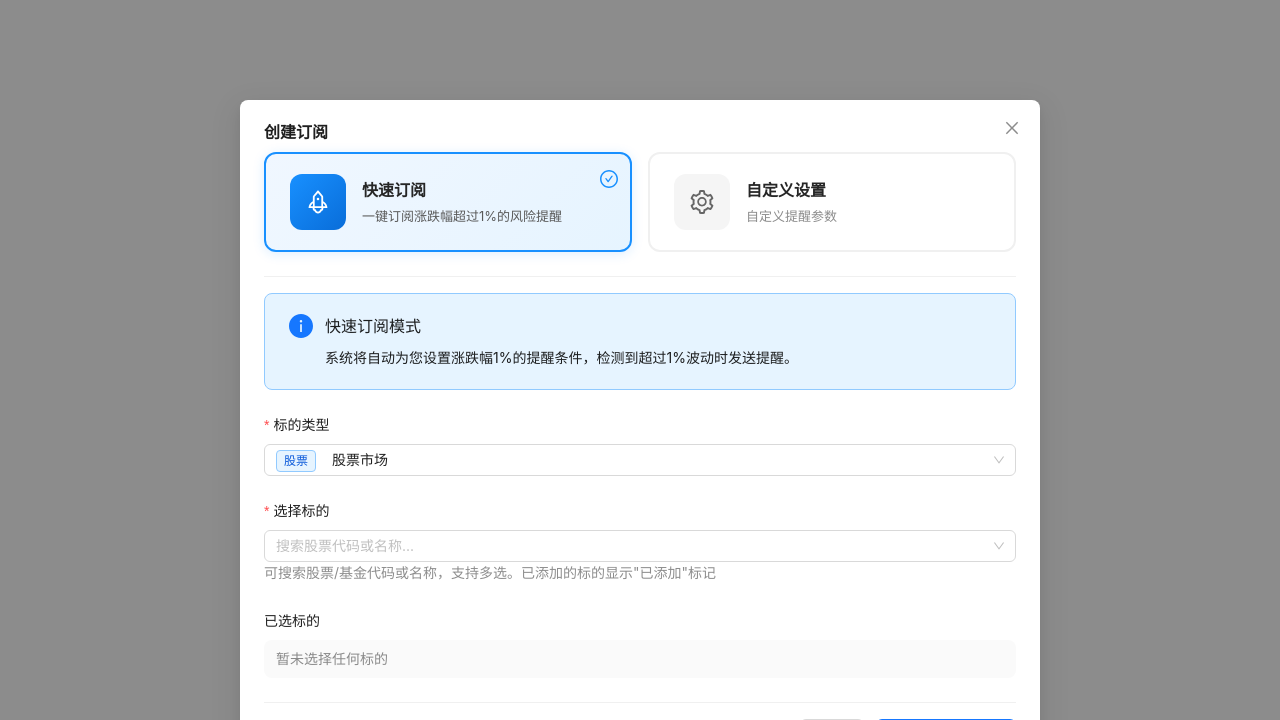
Scenario: SubscriptionCreate › Custom Mode › should switch to custom mode when custom card is clicked
The width and height of the screenshot is (1280, 720).
Click custom mode card
What coordinates should you click on to do the following:
click the text "自定义设置"
I would click on:
 (786, 190)
Its box is [746, 180, 826, 200].
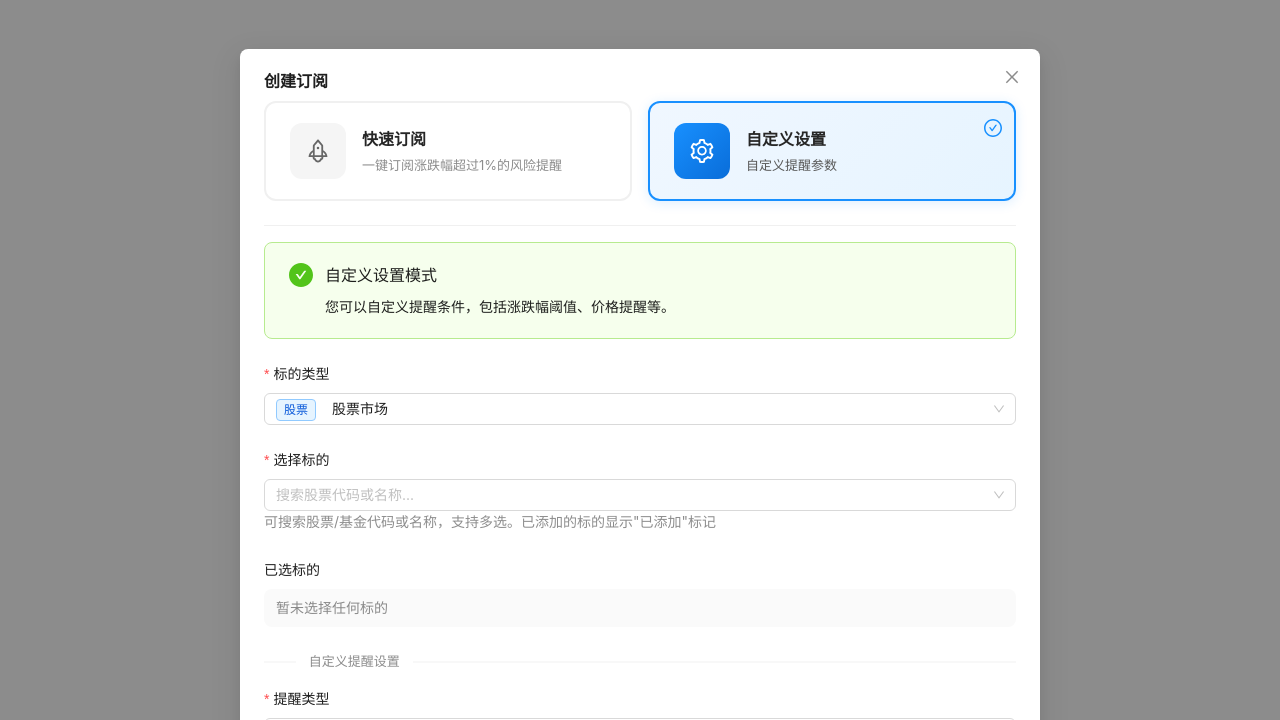
Result: the text "您可以自定义提醒条件，包括涨跌幅阈值、价格提醒等。" is shown at [325, 298, 675, 315]
